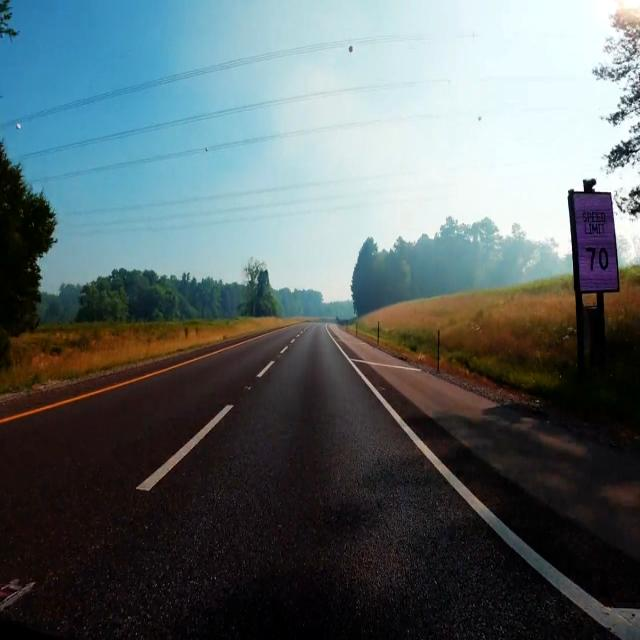road: (0, 324, 609, 637), (465, 464, 640, 603)
